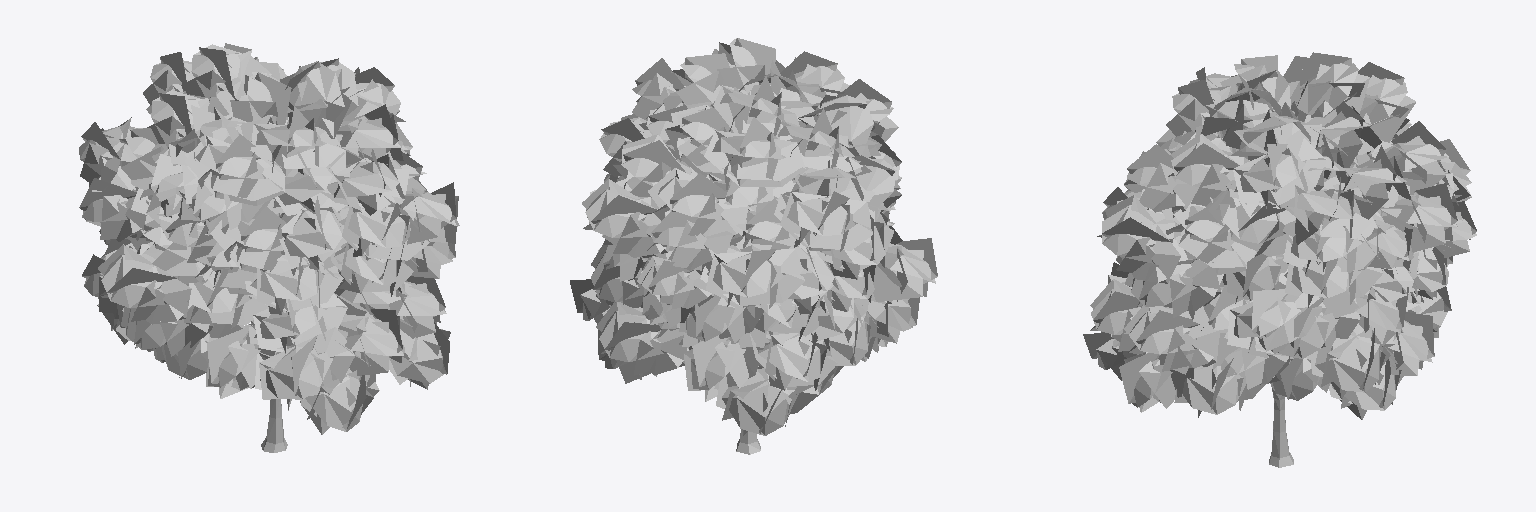
File: tree.obj
The picture shows the model from 3 angles: view 1: azimuth 30°, elevation 25°; view 2: azimuth 150°, elevation 25°; view 3: azimuth 270°, elevation 25°; orthographic projection.
Visible parts, largest first — view 1: tree_pack_006.001_tree_pack_006.002; view 2: tree_pack_006.001_tree_pack_006.002; view 3: tree_pack_006.001_tree_pack_006.002.
Boxes of the visible parts, box(x1,y1,x2,y2) form: tree_pack_006.001_tree_pack_006.002: box(79, 43, 459, 452); tree_pack_006.001_tree_pack_006.002: box(570, 38, 937, 454); tree_pack_006.001_tree_pack_006.002: box(1083, 52, 1476, 467).
Size of the model in its own units: 145 by 171 by 155.